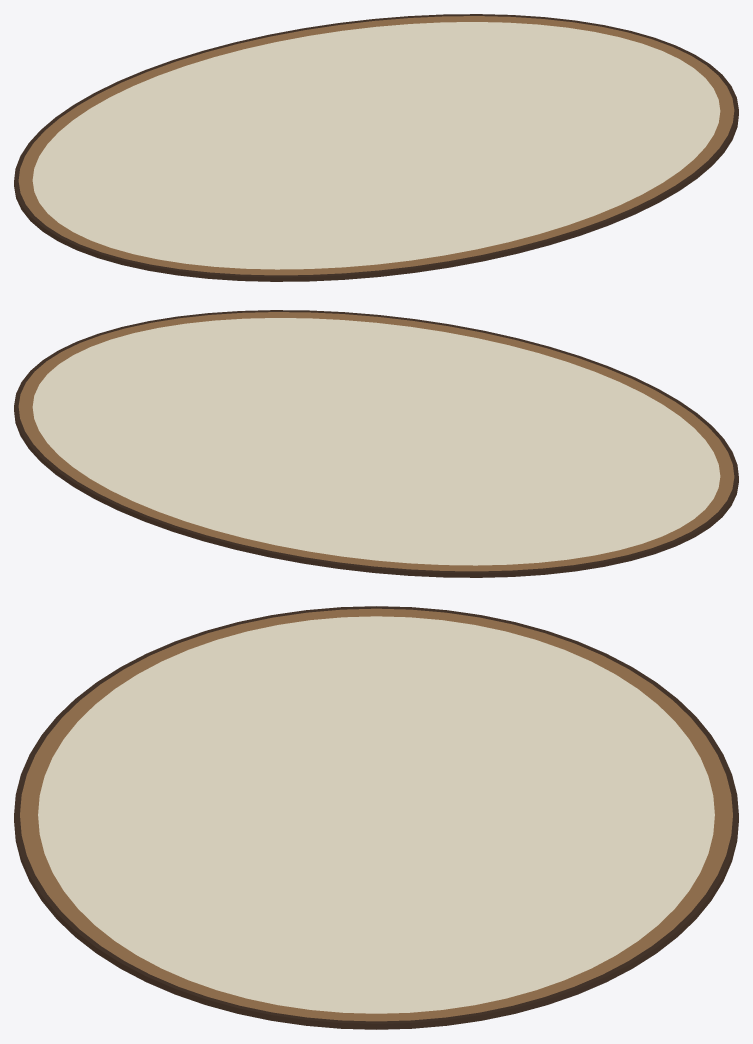
File: teahouse-oval-rug.glb
3 renders of one model, top to bottom at view 1: azimuth 30°, elevation 25°; view 2: azimuth 150°, elevation 25°; view 3: azimuth 270°, elevation 25°, orthographic. The views are drawn at different scales.
Visible parts, largest first — view 1: library-oval-rug.010; view 2: library-oval-rug.010; view 3: library-oval-rug.010.
Boxes of the visible parts, x1,y1,x2,y2 form: library-oval-rug.010: (14,14,738,281); library-oval-rug.010: (14,310,738,577); library-oval-rug.010: (14,606,738,1029).
Bounding box in the file's own units: 3 × 0.0196 × 2.2.
